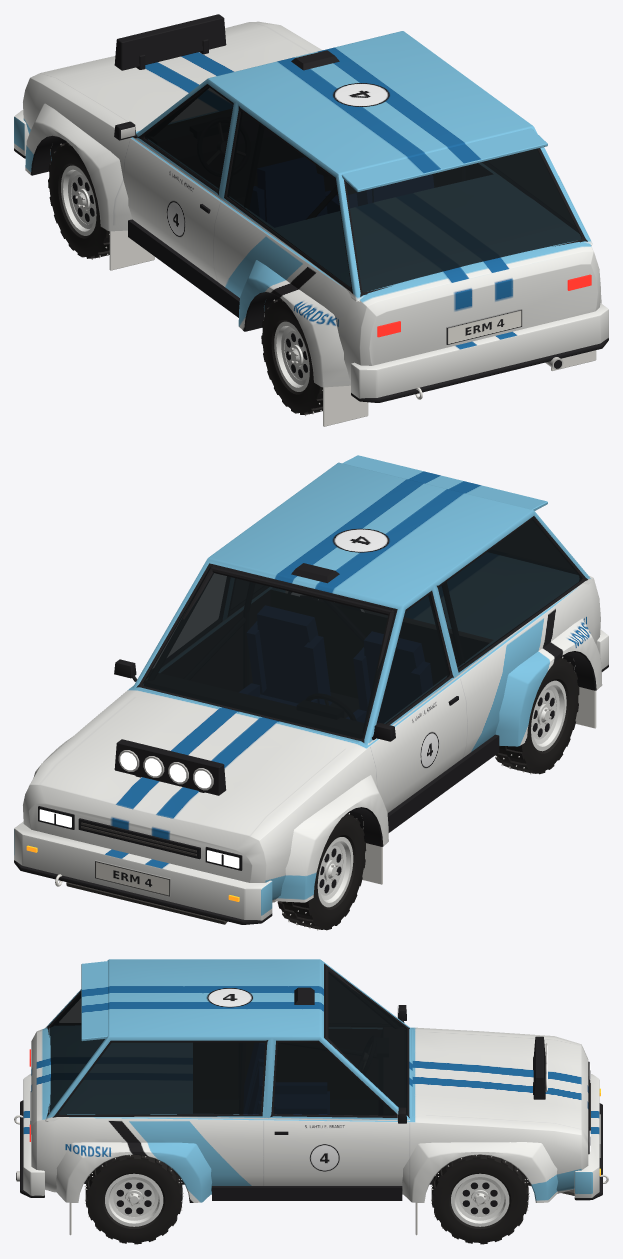
Rendered from CAR-026_Export.fbx.
3 renders of one model, top to bottom at view 1: azimuth 30°, elevation 25°; view 2: azimuth 150°, elevation 25°; view 3: azimuth 270°, elevation 25°, orthographic. The views are drawn at different scales.
Visible parts, largest first — view 1: CAR-026_Body, CAR-026_Glass, CAR-026_Bumper_Rear, CAR-026_Trim, CAR-026_Spoiler, CAR-026_Accessories, CAR-026_MudFlaps, CAR-026_Wheel_RL_Tire, CAR-026_Wheel_FL_Tire, CAR-026_Wheel_RL_Rim, CAR-026_Wheel_FL_Rim, CAR-026_Lights; view 2: CAR-026_Body, CAR-026_Glass, CAR-026_Bumper_Front, CAR-026_Trim, CAR-026_Accessories, CAR-026_Wheel_FL_Tire, CAR-026_Wheel_RL_Tire, CAR-026_Spoiler, CAR-026_Wheel_FL_Rim, CAR-026_Wheel_RL_Rim, CAR-026_Interior, CAR-026_MudFlaps (+2 smaller); view 3: CAR-026_Body, CAR-026_Glass, CAR-026_Wheel_FR_Tire, CAR-026_Wheel_RR_Tire, CAR-026_Trim, CAR-026_Wheel_FR_Rim, CAR-026_Wheel_RR_Rim, CAR-026_Spoiler, CAR-026_Bumper_Front, CAR-026_Bumper_Rear, CAR-026_Accessories, CAR-026_Interior.
Boxes of the visible parts, x1,y1,x2,y2 form: CAR-026_Body: [23, 21, 601, 387]; CAR-026_Glass: [144, 87, 581, 292]; CAR-026_Bumper_Rear: [351, 303, 608, 402]; CAR-026_Trim: [128, 50, 563, 399]; CAR-026_Spoiler: [341, 128, 547, 192]; CAR-026_Accessories: [114, 14, 226, 70]; CAR-026_MudFlaps: [109, 230, 596, 426]; CAR-026_Wheel_RL_Tire: [261, 298, 322, 415]; CAR-026_Wheel_FL_Tire: [48, 142, 109, 259]; CAR-026_Wheel_RL_Rim: [274, 321, 309, 391]; CAR-026_Wheel_FL_Rim: [61, 165, 96, 235]; CAR-026_Lights: [377, 274, 591, 337]; CAR-026_Body: [23, 462, 602, 902]; CAR-026_Glass: [142, 519, 581, 738]; CAR-026_Bumper_Front: [14, 821, 272, 924]; CAR-026_Trim: [55, 563, 499, 896]; CAR-026_Accessories: [66, 739, 227, 924]; CAR-026_Wheel_FL_Tire: [277, 813, 366, 930]; CAR-026_Wheel_RL_Tire: [495, 656, 579, 774]; CAR-026_Spoiler: [342, 455, 547, 510]; CAR-026_Wheel_FL_Rim: [317, 837, 353, 907]; CAR-026_Wheel_RL_Rim: [531, 680, 566, 751]; CAR-026_Interior: [182, 566, 394, 670]; CAR-026_MudFlaps: [362, 687, 596, 884]; CAR-026_Body: [31, 959, 588, 1202]; CAR-026_Glass: [50, 972, 406, 1115]; CAR-026_Wheel_FR_Tire: [431, 1154, 529, 1244]; CAR-026_Wheel_RR_Tire: [84, 1154, 183, 1244]; CAR-026_Trim: [14, 987, 608, 1200]; CAR-026_Wheel_FR_Rim: [451, 1173, 509, 1226]; CAR-026_Wheel_RR_Rim: [105, 1173, 163, 1226]; CAR-026_Spoiler: [81, 961, 107, 1041]; CAR-026_Bumper_Front: [574, 1074, 602, 1200]; CAR-026_Bumper_Rear: [20, 1074, 44, 1197]; CAR-026_Accessories: [528, 1036, 574, 1195]; CAR-026_Interior: [239, 966, 377, 1115].
Size of the model in its own units: 1.96 by 1.63 by 4.4.
17 materials, 2 textured.
